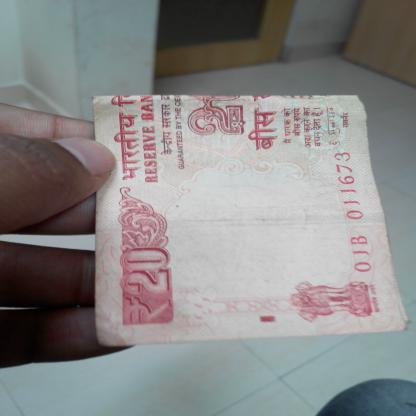Old20Front: (94, 93, 385, 333)
